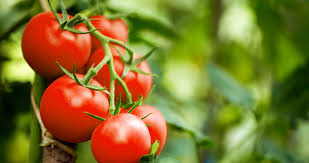tomato: (40, 73, 106, 142), (21, 15, 91, 78), (91, 45, 151, 103), (91, 114, 150, 158), (126, 104, 169, 156), (82, 14, 128, 55)
